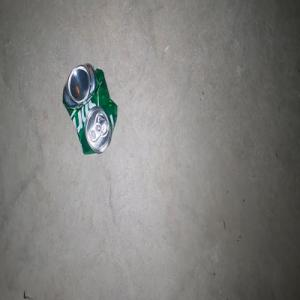SodaCan: (62, 62, 117, 155)
